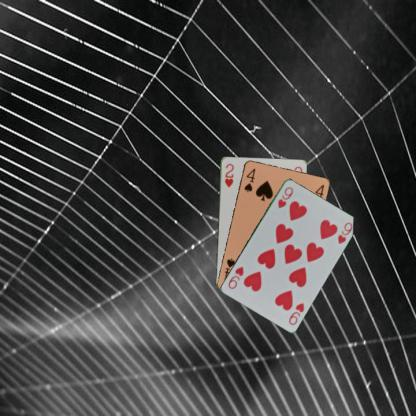2h: (222, 161, 234, 188)
4s: (242, 165, 256, 193)
9h: (286, 300, 306, 326), (275, 184, 294, 209)
